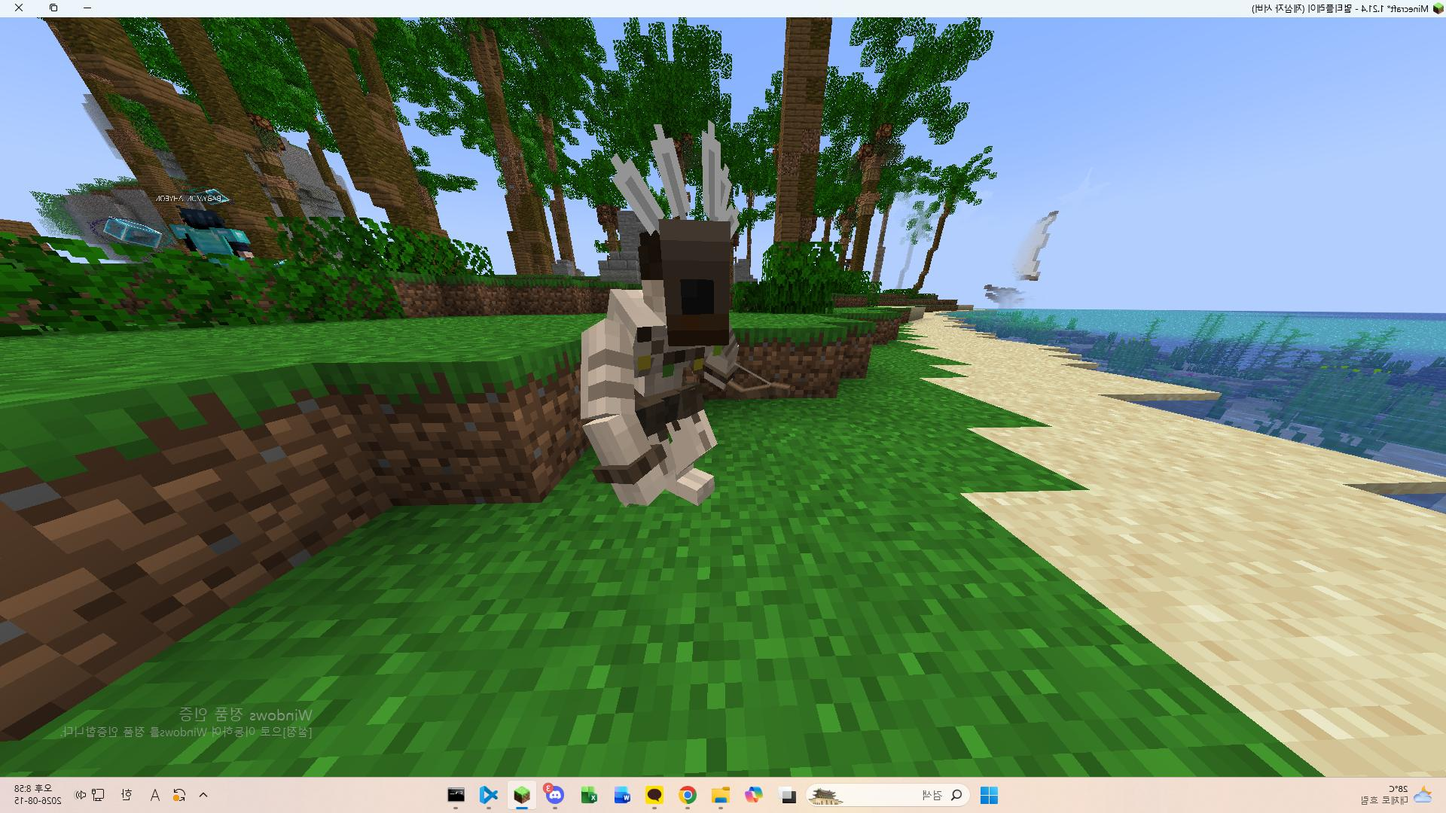bow_indian: (509, 116, 812, 534)
